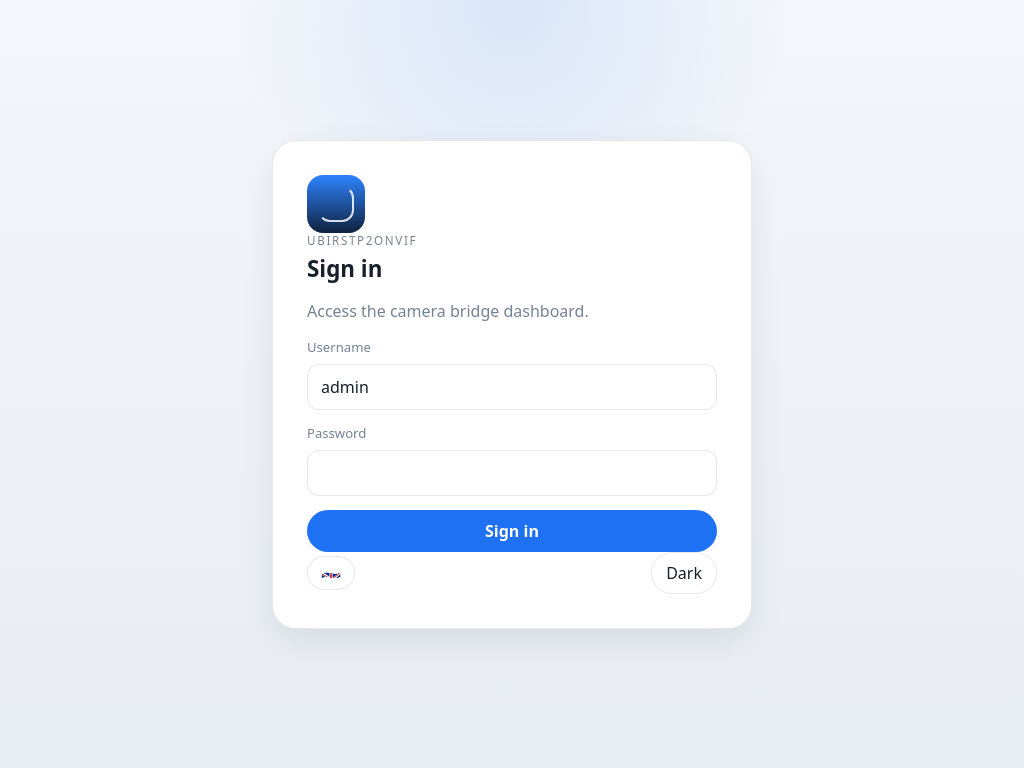
Test case: App › renders login and allows sign in
Expected: the heading "Sign in" is shown, [307, 252, 382, 284]
Click the button "Sign in": (512, 530) [307, 510, 717, 552]
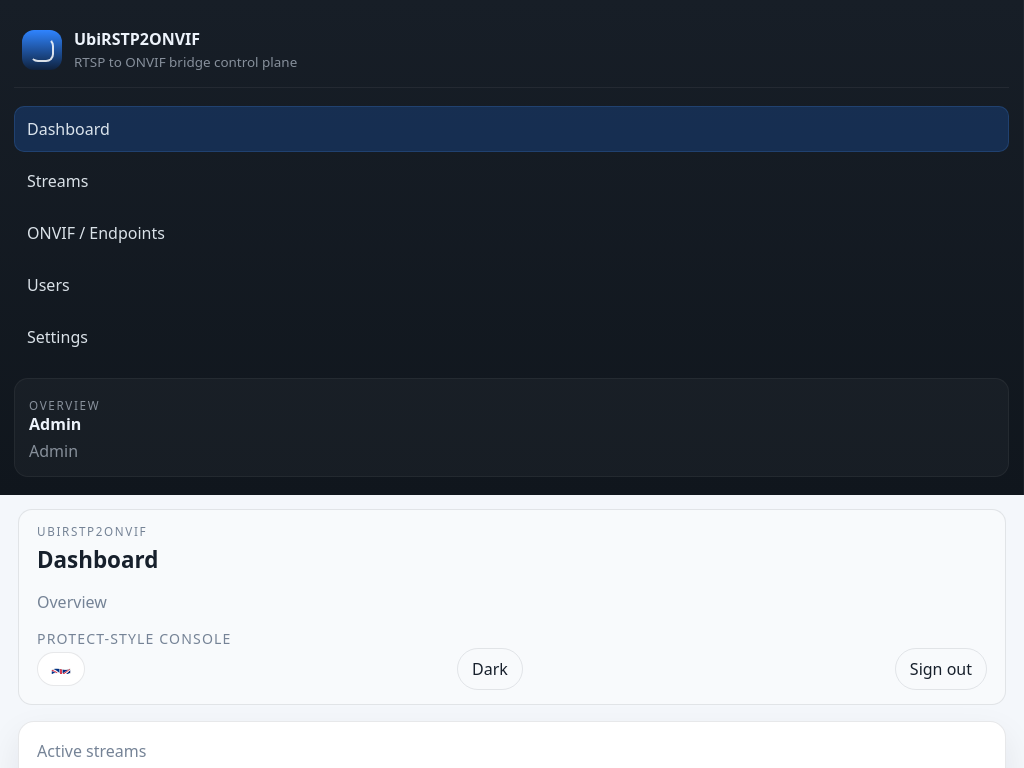
Expected: the heading "Dashboard" is shown, [37, 544, 158, 575]
